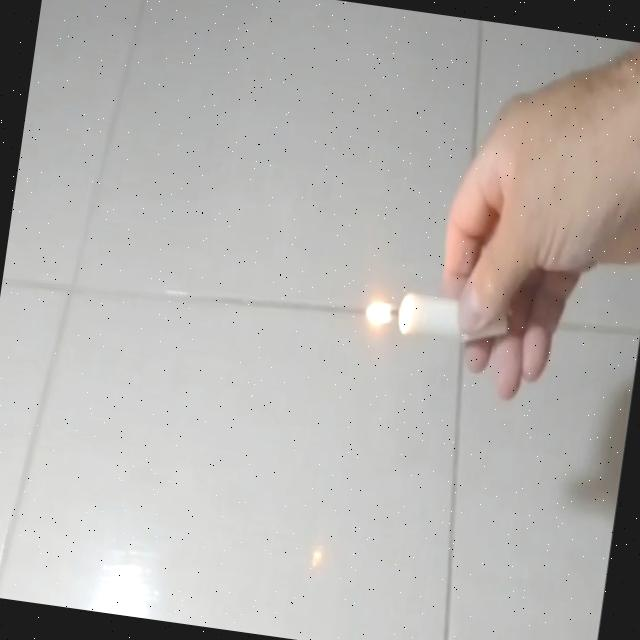fire: (359, 290, 401, 338)
